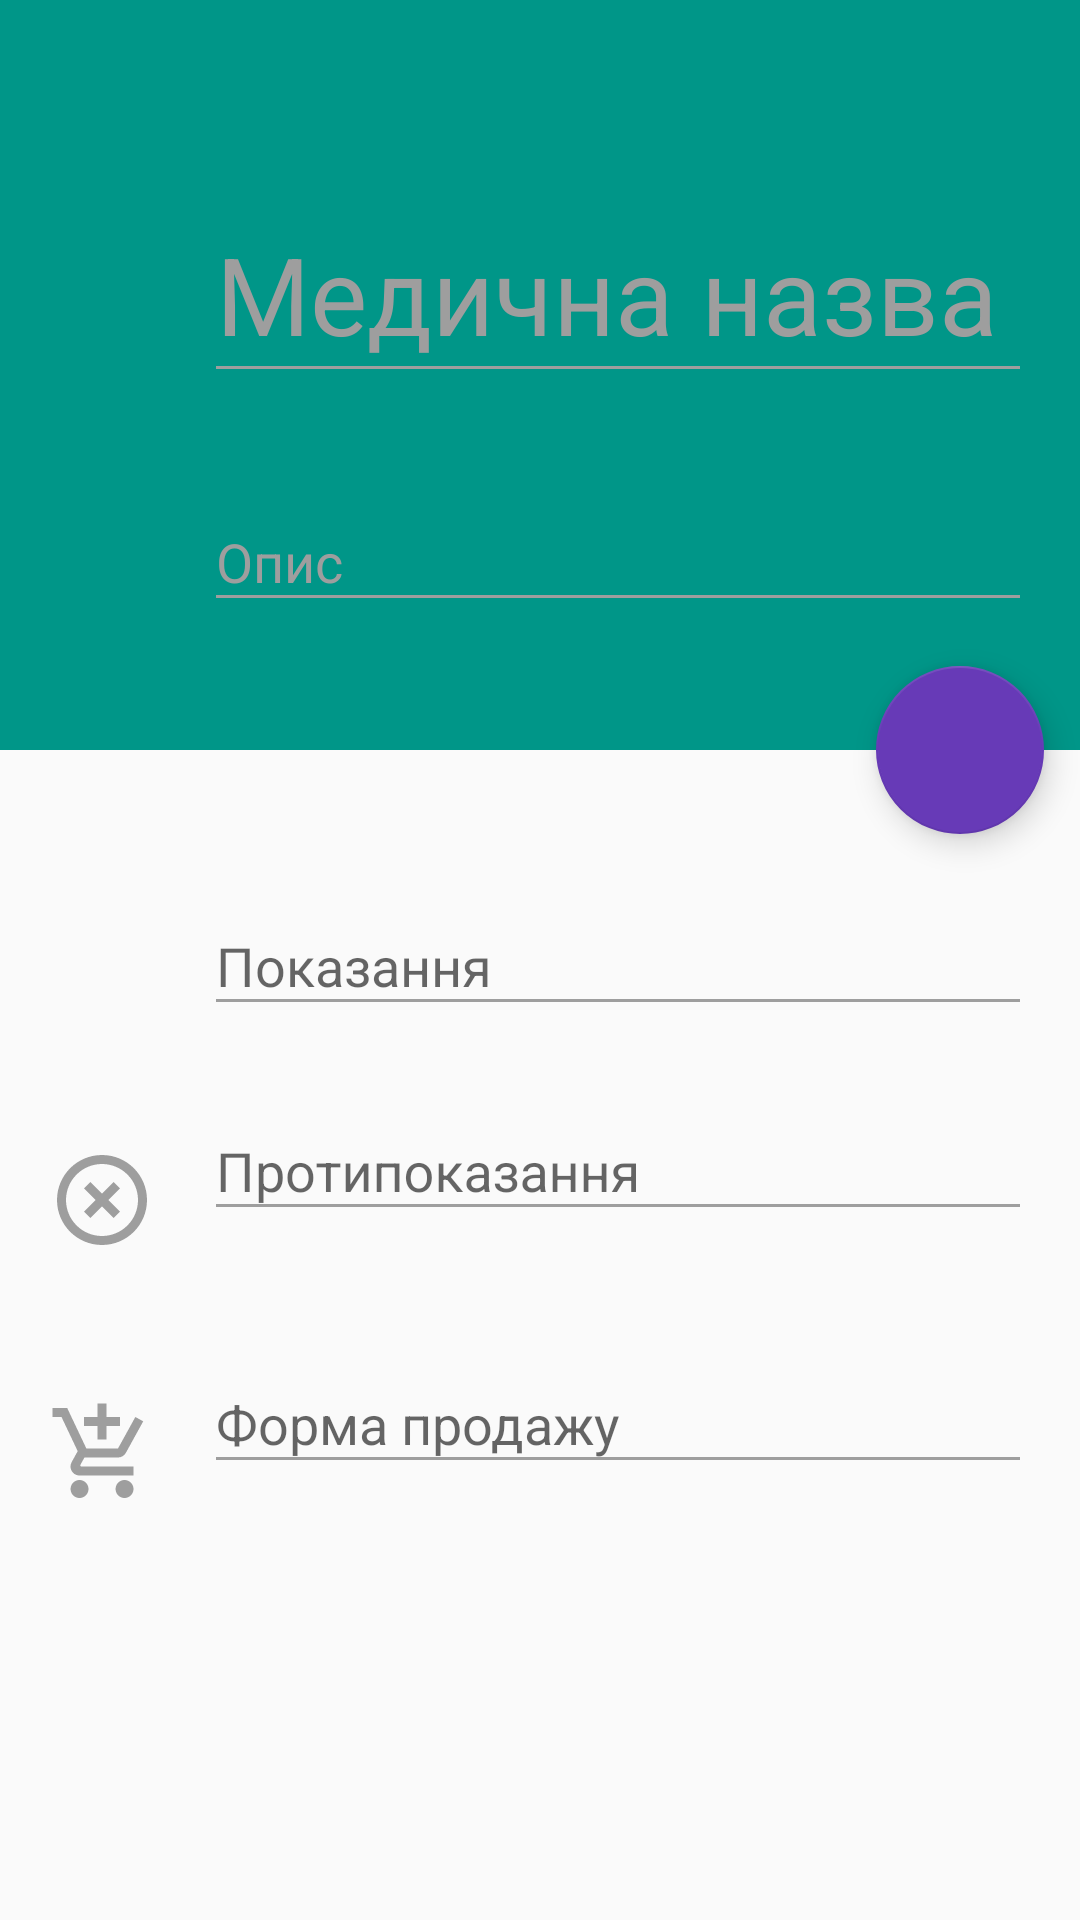

Locate icon controls on the screen. Image size 1080px x 1920px, boxes as (x1, y1, x2, y2).
add shopping cart: (52, 1403, 143, 1498)
highlight off: (57, 1155, 147, 1245)
